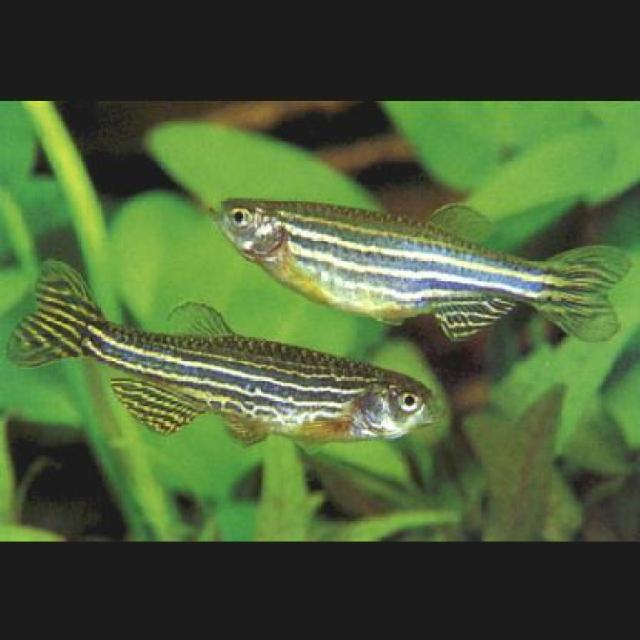ZebraFish: (0, 260, 443, 442), (211, 194, 626, 341)
